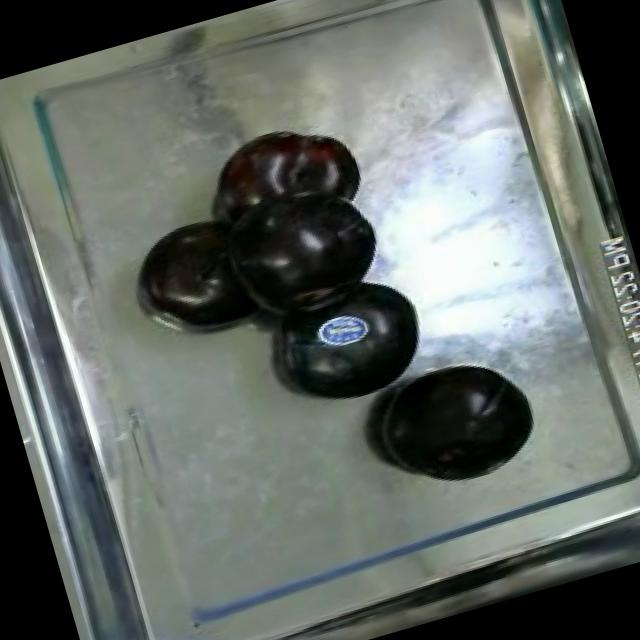Fruit: (361, 338, 554, 506), (212, 170, 397, 327), (261, 267, 444, 425), (198, 107, 368, 230)
